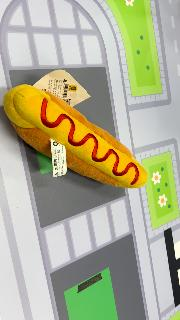hotdog: (3, 84, 148, 190)
